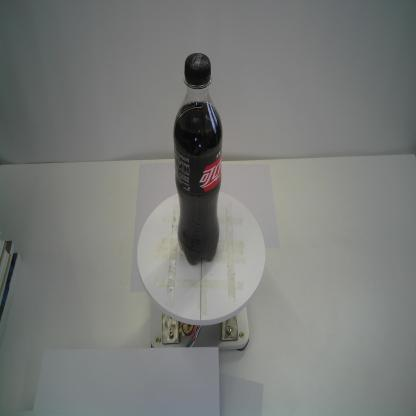Drink: (172, 50, 225, 268)
